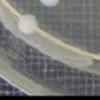white: (16, 11, 40, 37), (37, 0, 61, 9)
